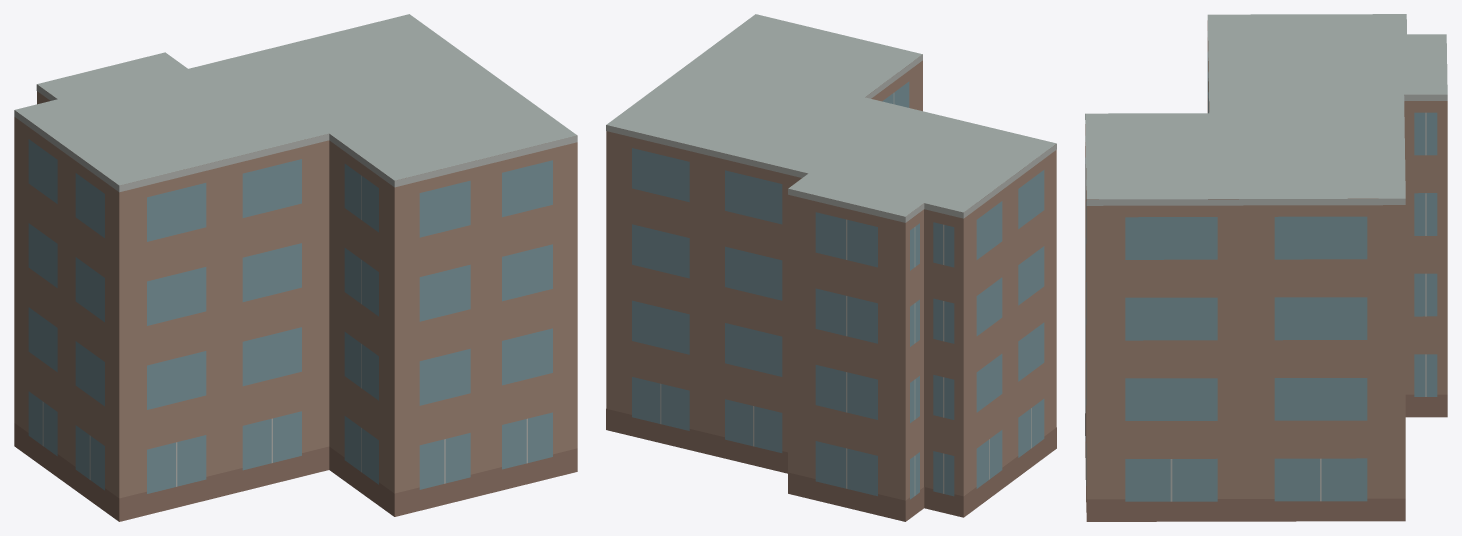
Rendered from residential-414e6640-46b3-4ff3-8576-f5891cfc56ec.glb.
3 renders of one model, left to right at view 1: azimuth 30°, elevation 25°; view 2: azimuth 150°, elevation 25°; view 3: azimuth 270°, elevation 25°, orthographic. The views are drawn at different scales.
Visible parts, largest first — view 1: residential-414e6640-46b3-4ff3-8576-f5891cfc56ec.tmp; view 2: residential-414e6640-46b3-4ff3-8576-f5891cfc56ec.tmp; view 3: residential-414e6640-46b3-4ff3-8576-f5891cfc56ec.tmp.
Boxes of the visible parts, x1=… form: residential-414e6640-46b3-4ff3-8576-f5891cfc56ec.tmp: x1=14, y1=14, x2=577, y2=521; residential-414e6640-46b3-4ff3-8576-f5891cfc56ec.tmp: x1=606, y1=14, x2=1056, y2=521; residential-414e6640-46b3-4ff3-8576-f5891cfc56ec.tmp: x1=1085, y1=14, x2=1447, y2=521.
Bounding box in the file's own units: 15.05 × 12.2 × 12.44.
